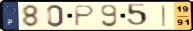0: (46, 4, 65, 28)
5: (126, 3, 150, 29)
8: (21, 4, 41, 29)
9: (99, 4, 118, 28)
I: (160, 4, 168, 28)
P: (73, 4, 96, 28)
